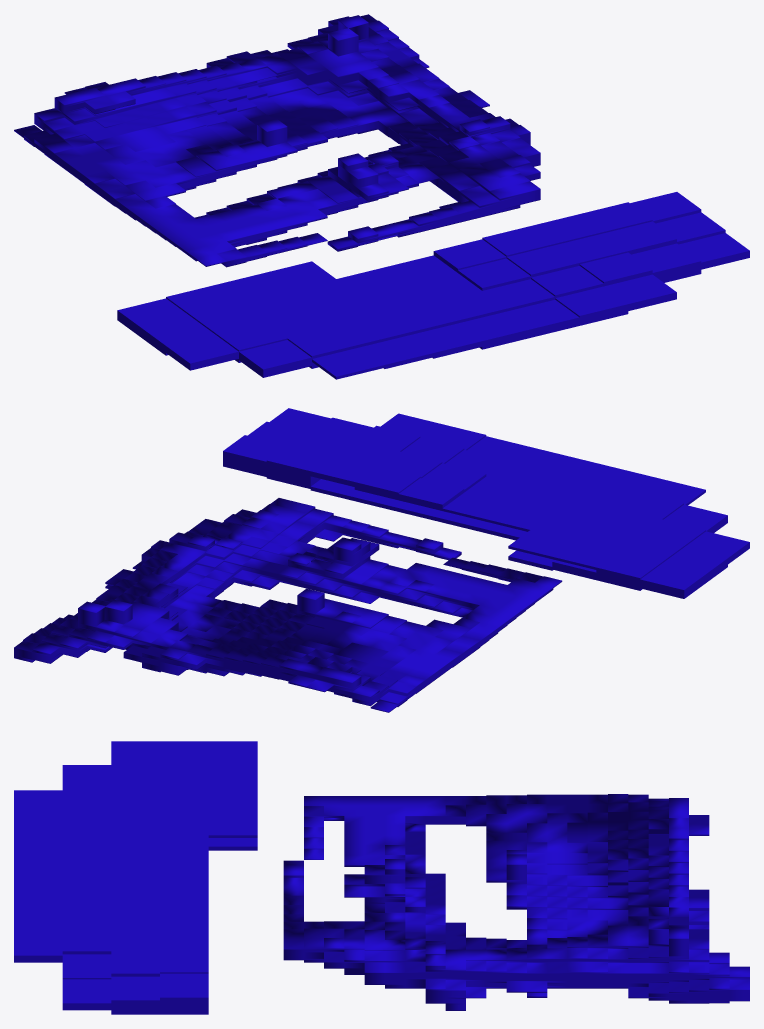
Rendered from blockly_level.obj.
The picture shows the model from 3 angles, top to bottom: view 1: azimuth 30°, elevation 25°; view 2: azimuth 150°, elevation 25°; view 3: azimuth 270°, elevation 25°; orthographic projection. The views are drawn at different scales.
Parts seen in each view (by area): view 1: Cube, Cube.001; view 2: Cube, Cube.001; view 3: Cube, Cube.001.
Part boxes in pixels (x1,y1,x2,y2): Cube: (14, 14, 540, 267); Cube.001: (117, 192, 749, 379); Cube: (14, 498, 562, 712); Cube.001: (223, 408, 749, 598); Cube: (283, 794, 749, 1010); Cube.001: (14, 741, 257, 1014).
Size of the model in its own units: 126 by 11.83 by 150.
